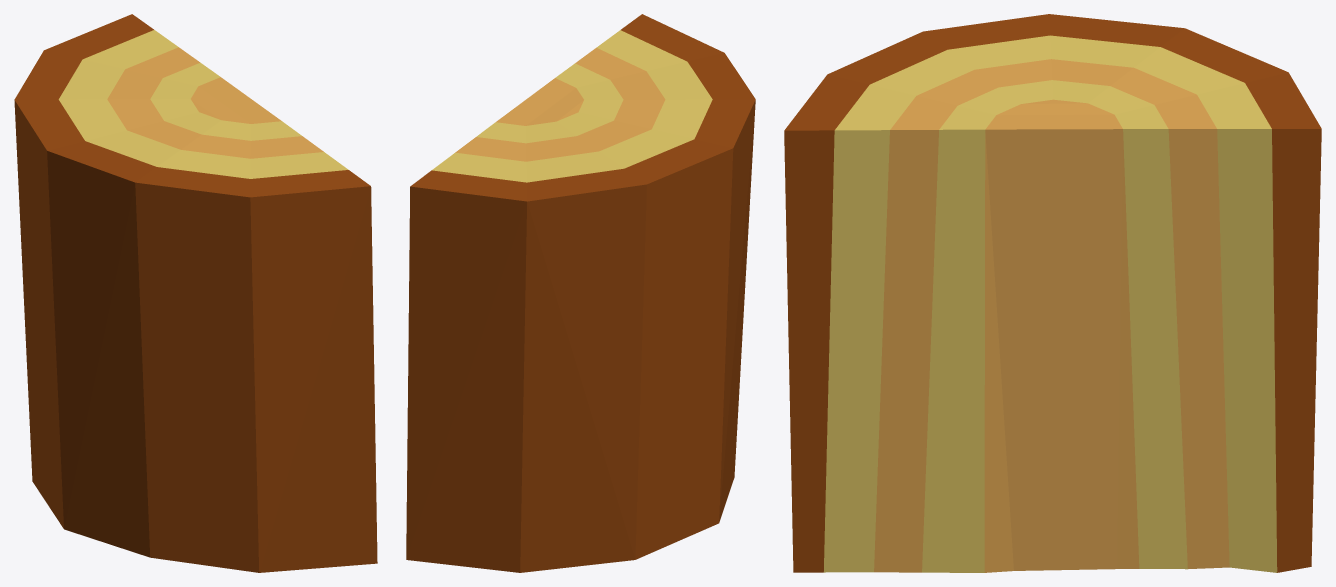
Rendered from TreeTrunkDoubleSideHalf.fbx.
3 views of the same model, side by side, from view 1: azimuth 30°, elevation 25°; view 2: azimuth 150°, elevation 25°; view 3: azimuth 270°, elevation 25° (orthographic). The views are drawn at different scales.
Visible parts, largest first — view 1: TreeTrunkDoubleSidedHalf; view 2: TreeTrunkDoubleSidedHalf; view 3: TreeTrunkDoubleSidedHalf.
Boxes of the visible parts, box(x1,y1,x2,y2) form: TreeTrunkDoubleSidedHalf: box(14, 14, 377, 572); TreeTrunkDoubleSidedHalf: box(406, 14, 755, 572); TreeTrunkDoubleSidedHalf: box(784, 14, 1321, 572).
Size of the model in its own units: 67.53 by 112 by 125.
